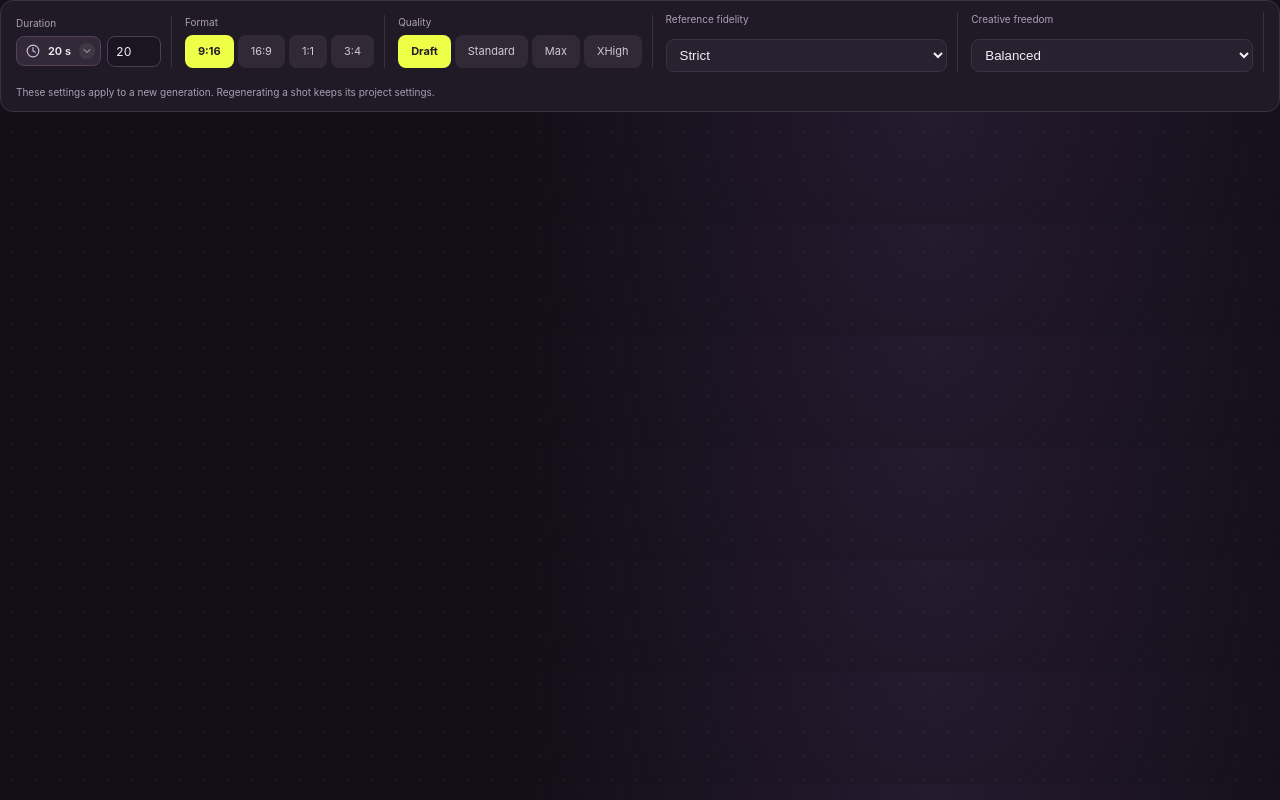
Test: the length typed in seconds › stays between 2 and 120 seconds and ignores an empty field
Replace the text in the number field named "Type the length in seconds (2 to 120)" with "500": (134, 52) [107,36,161,67]
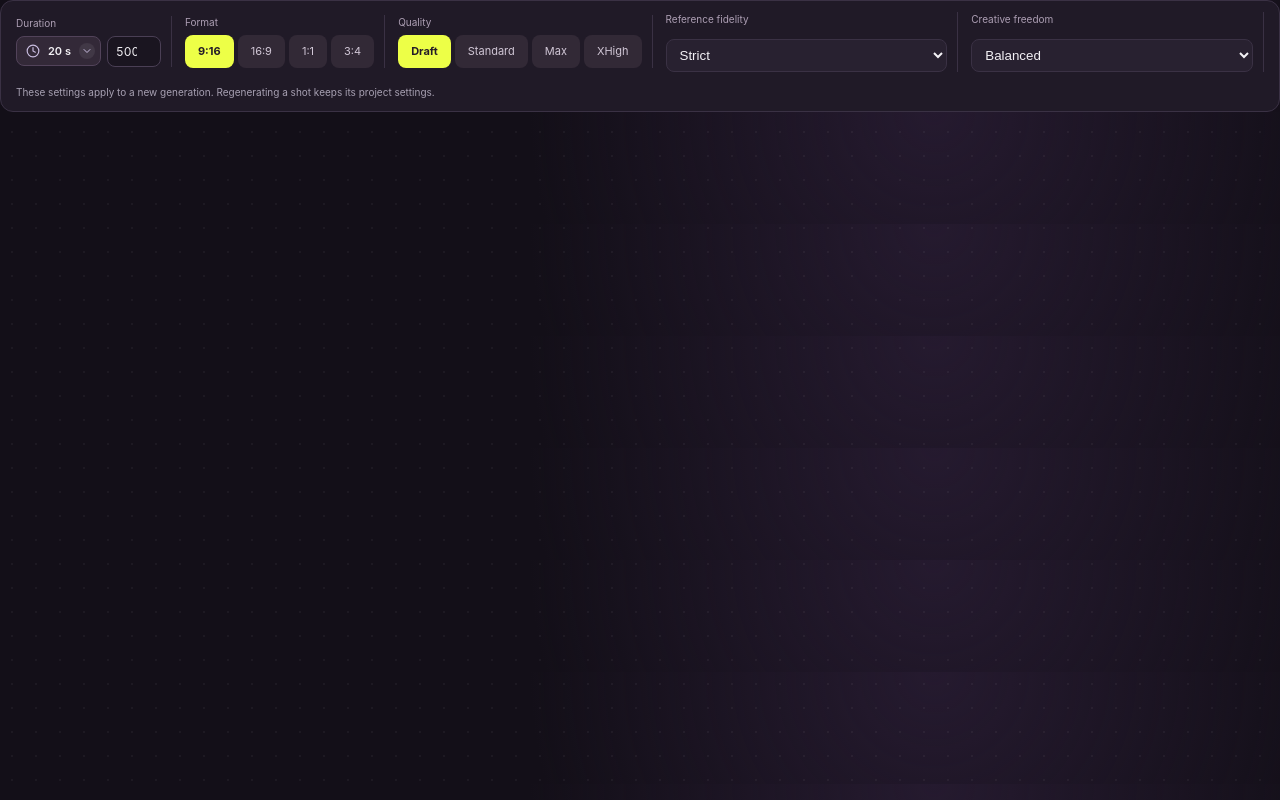
Press Enter in the number field named "Type the length in seconds (2 to 120)", box [107,36,161,67]
Replace the text in the number field named "Type the length in seconds (2 to 120)" with "1": (134, 52) [107,36,161,67]
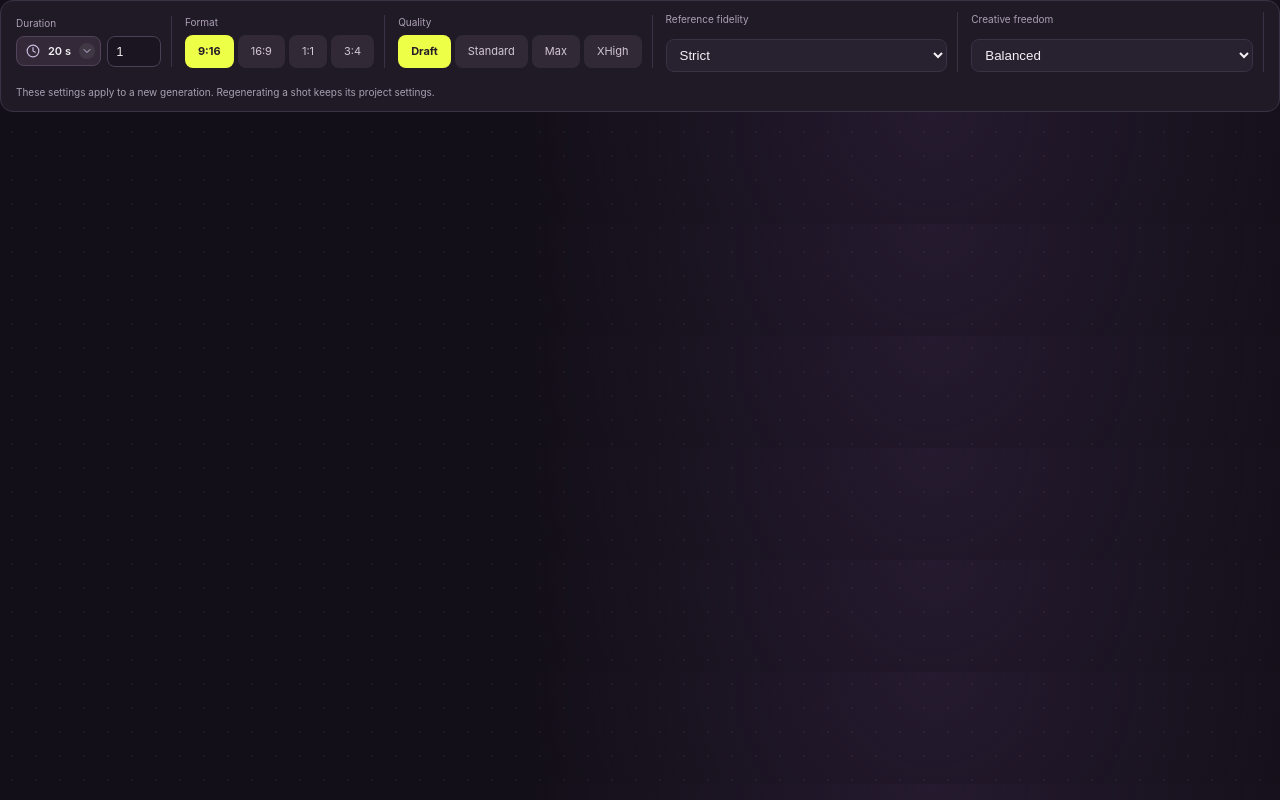
Clear the number field named "Type the length in seconds (2 to 120)": (134, 52) [107,36,161,67]
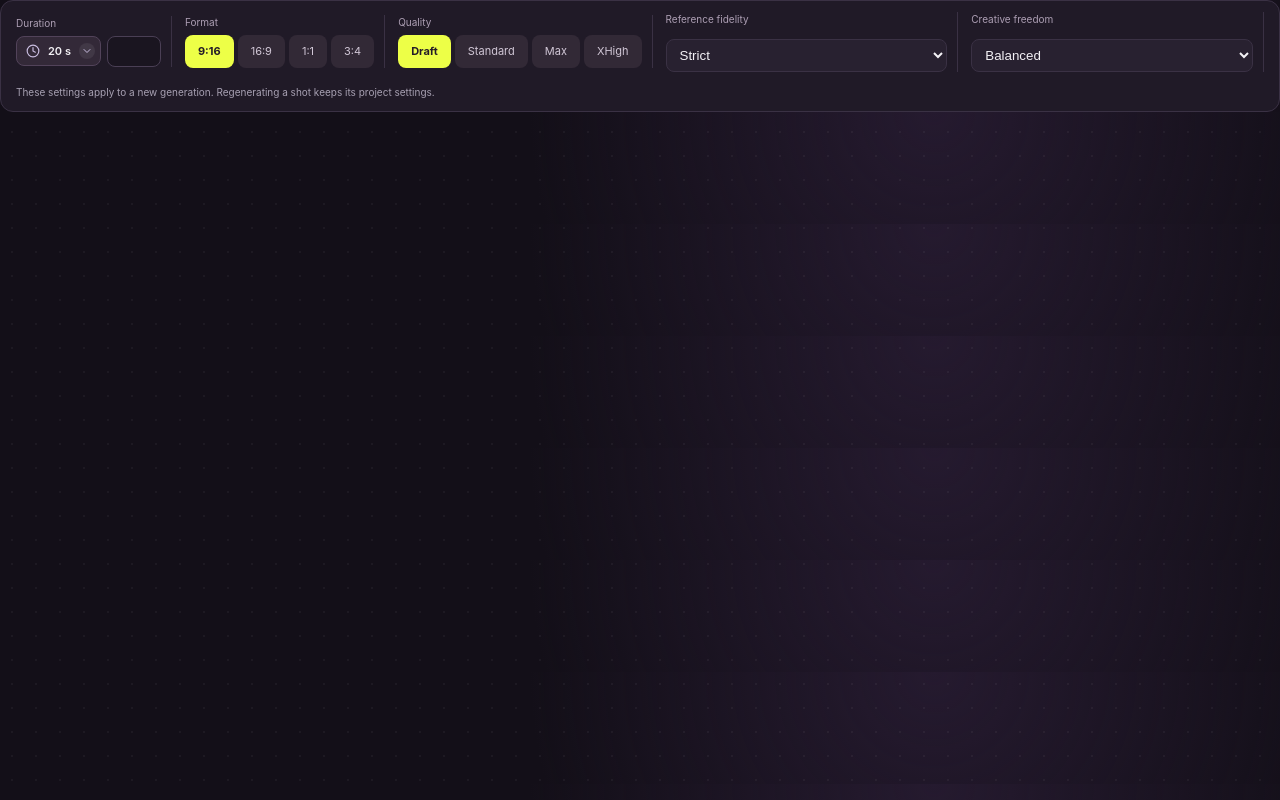
Leave the number field named "Type the length in seconds (2 to 120)", box [107,36,161,67]
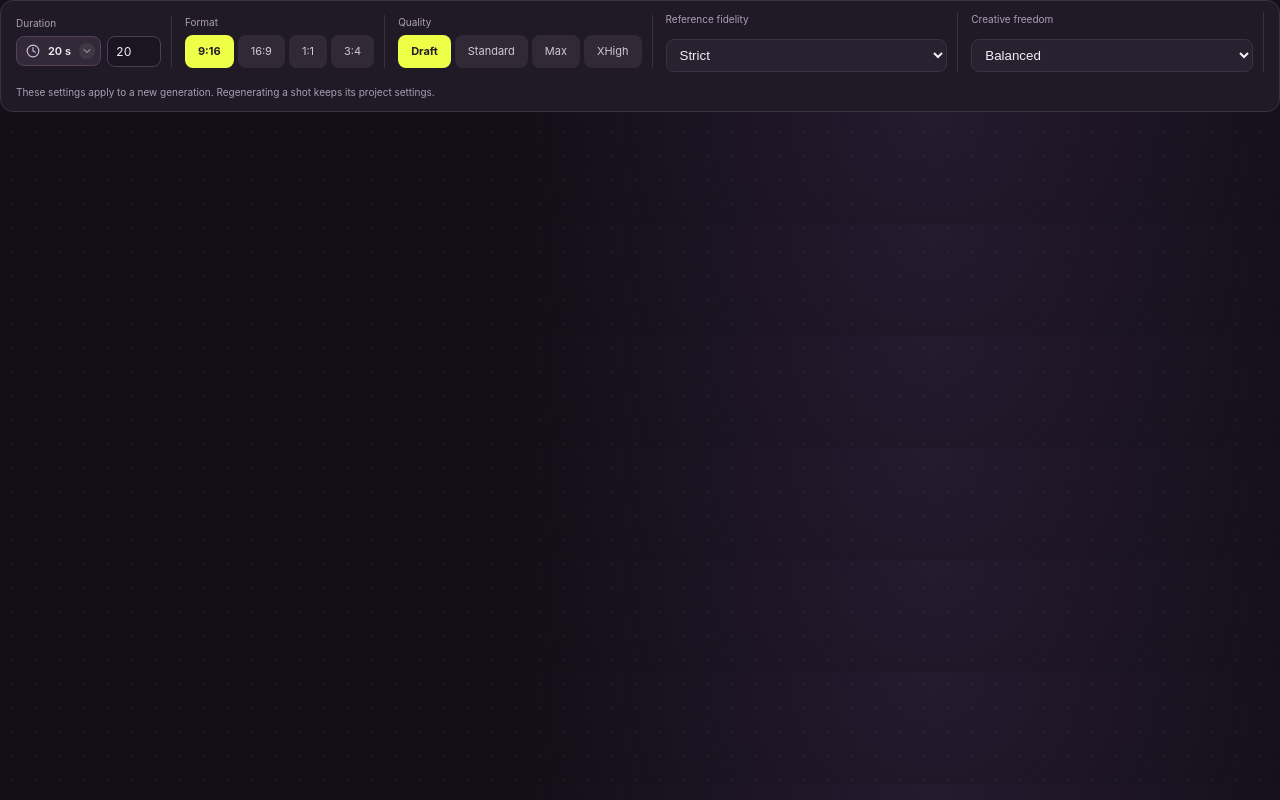
Expected: the number field named "Type the length in seconds (2 to 120)" holds "20", [107,36,161,67]
